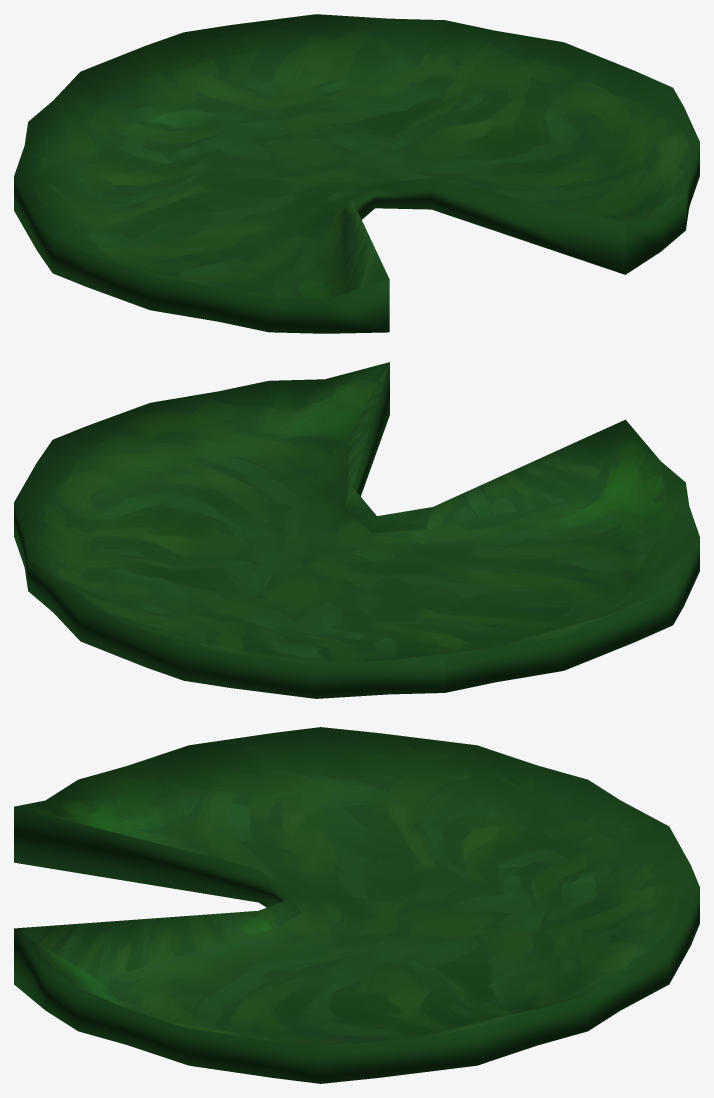
Rendered from lilypad.fbx.
The picture shows the model from 3 angles, top to bottom: view 1: azimuth 30°, elevation 25°; view 2: azimuth 150°, elevation 25°; view 3: azimuth 270°, elevation 25°; orthographic projection. The views are drawn at different scales.
Parts seen in each view (by area): view 1: Cube; view 2: Cube; view 3: Cube.
Boxes of the visible parts, x1=… form: Cube: x1=14, y1=14, x2=699, y2=333; Cube: x1=14, y1=362, x2=699, y2=698; Cube: x1=14, y1=727, x2=699, y2=1083.
Bounding box in the file's own units: 211 × 18.49 × 191.
